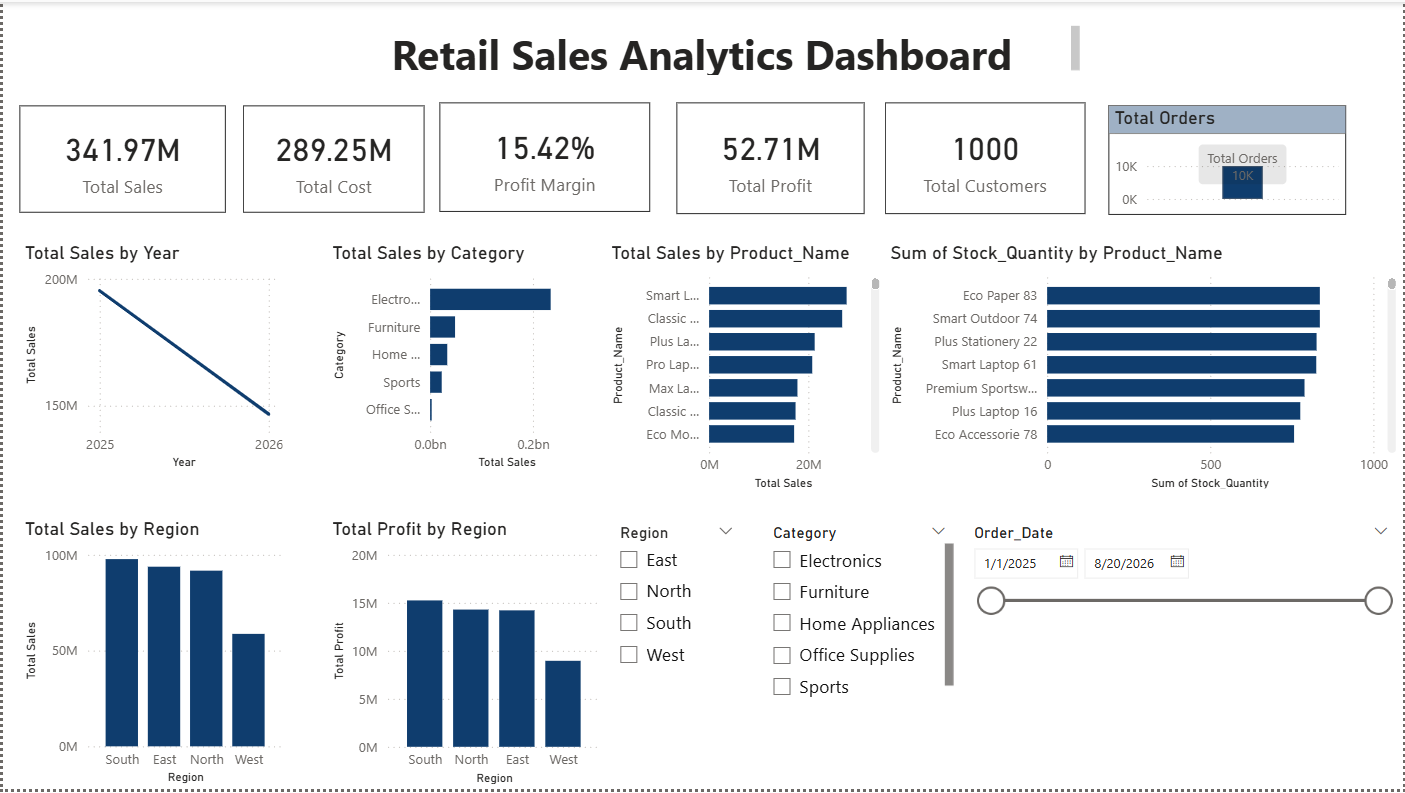

This screenshot's page, from the dashboard's own definition file:
{"tool":"powerbi","page":{"name":"Page 1","canvas":[1280,720],"ordinal":0},"visuals":[{"type":"card","fields":{"Values":["Measure.Total Sales"]},"box":[15.1,94.5,189,98.3],"z":0},{"type":"card","fields":{"Values":["Measure.Total Profit"]},"box":[616.1,92.6,172,102],"z":1000},{"type":"card","fields":{"Values":["Measure.Total Customers"]},"box":[806.9,92.6,183.3,102],"z":2000},{"type":"clusteredColumnChart","fields":{"Y":["Measure.Total Orders"]},"box":[1011,94.5,217.3,100.2],"z":3000},{"type":"card","fields":{"Values":["Measure.Total Cost"]},"box":[219.2,94.5,166.3,98.3],"z":4000},{"type":"card","fields":{"Values":["Measure.Profit Margin"]},"box":[398.7,92.6,192.8,100.2],"z":5000},{"type":"lineChart","fields":{"Category":["Sales.Order_Date.Variation.Date Hierarchy.Year","Sales.Order_Date.Variation.Date Hierarchy.Month"],"Y":["Measure.Total Sales"]},"box":[15.1,219.2,245.7,211.7],"z":6000},{"type":"clusteredColumnChart","fields":{"Category":["Sales.Region"],"Y":["Measure.Total Sales"]},"box":[15.1,472.4,245.7,247.6],"z":7000},{"type":"clusteredBarChart","fields":{"Category":["Products.Category"],"Y":["Measure.Total Sales"]},"box":[296.7,219.2,255.1,211.7],"z":8000},{"type":"clusteredBarChart","fields":{"Category":["Products.Product_Name"],"Y":["Measure.Total Sales"]},"box":[551.8,219.2,255.1,230.6],"z":9000},{"type":"clusteredBarChart","fields":{"Y":["Sum(Inventory.Stock_Quantity)"],"Category":["Products.Product_Name"]},"box":[806.9,219.2,472.4,230.6],"z":10000},{"type":"clusteredColumnChart","fields":{"Category":["Sales.Region"],"Y":["Measure.Total Profit"]},"box":[297,472,255,248],"z":11000},{"type":"slicer","fields":{"Values":["Sales.Region"]},"box":[551.8,472.4,128.5,170.1],"z":12000},{"type":"slicer","fields":{"Values":["Products.Category"]},"box":[691.7,472.4,183.3,170.1],"z":13000},{"type":"slicer","fields":{"Values":["Sales.Order_Date"]},"box":[875,472,404,170],"z":14000},{"type":"textbox","box":[296.7,17,693.5,54.8],"z":15000}]}

Visuals, with their boxes in screenshot pixels (x1, y1, x2, y2), scaled from the page's 1280x720 canvas onto the 1405x793 screenshot:
card - Measure.Total Sales: l=17, t=104, r=224, b=212
card - Measure.Total Profit: l=676, t=102, r=865, b=214
card - Measure.Total Customers: l=886, t=102, r=1087, b=214
clusteredColumnChart - Measure.Total Orders: l=1110, t=104, r=1348, b=214
card - Measure.Total Cost: l=241, t=104, r=423, b=212
card - Measure.Profit Margin: l=438, t=102, r=649, b=212
lineChart - Sales.Order_Date.Variation.Date Hierarchy.Year x Sales.Order_Date.Variation.Date Hierarchy.Month: l=17, t=241, r=286, b=475
clusteredColumnChart - Sales.Region x Measure.Total Sales: l=17, t=520, r=286, b=792
clusteredBarChart - Products.Category x Measure.Total Sales: l=326, t=241, r=606, b=475
clusteredBarChart - Products.Product_Name x Measure.Total Sales: l=606, t=241, r=886, b=495
clusteredBarChart - Sum(Inventory.Stock_Quantity) x Products.Product_Name: l=886, t=241, r=1404, b=495
clusteredColumnChart - Sales.Region x Measure.Total Profit: l=326, t=520, r=606, b=792
slicer - Sales.Region: l=606, t=520, r=747, b=708
slicer - Products.Category: l=759, t=520, r=960, b=708
slicer - Sales.Order_Date: l=960, t=520, r=1404, b=707
textbox: l=326, t=19, r=1087, b=79
